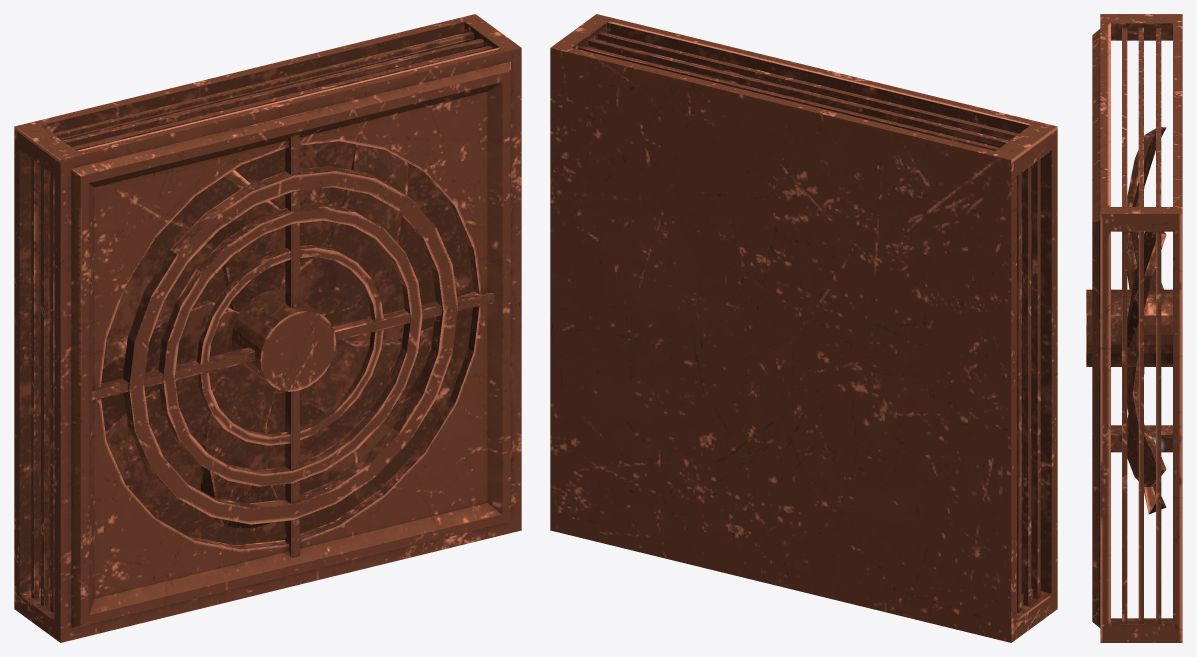
Rendered from Fan1.gltf.
3 views of the same model, side by side, from view 1: azimuth 30°, elevation 25°; view 2: azimuth 150°, elevation 25°; view 3: azimuth 270°, elevation 25° (orthographic). The views are drawn at different scales.
Visible parts, largest first — view 1: Belki, Ostrza; view 2: Belki; view 3: Belki, Ostrza.
Boxes of the visible parts, box(x1,y1,x2,y2) form: Belki: box(14, 14, 521, 642); Ostrza: box(101, 144, 433, 528); Belki: box(550, 14, 1057, 642); Belki: box(1086, 14, 1182, 642); Ostrza: box(1127, 127, 1166, 514).
Bounding box in the file's own units: 2 × 2 × 0.4069.
Materials: 1 (1 with a texture image).
